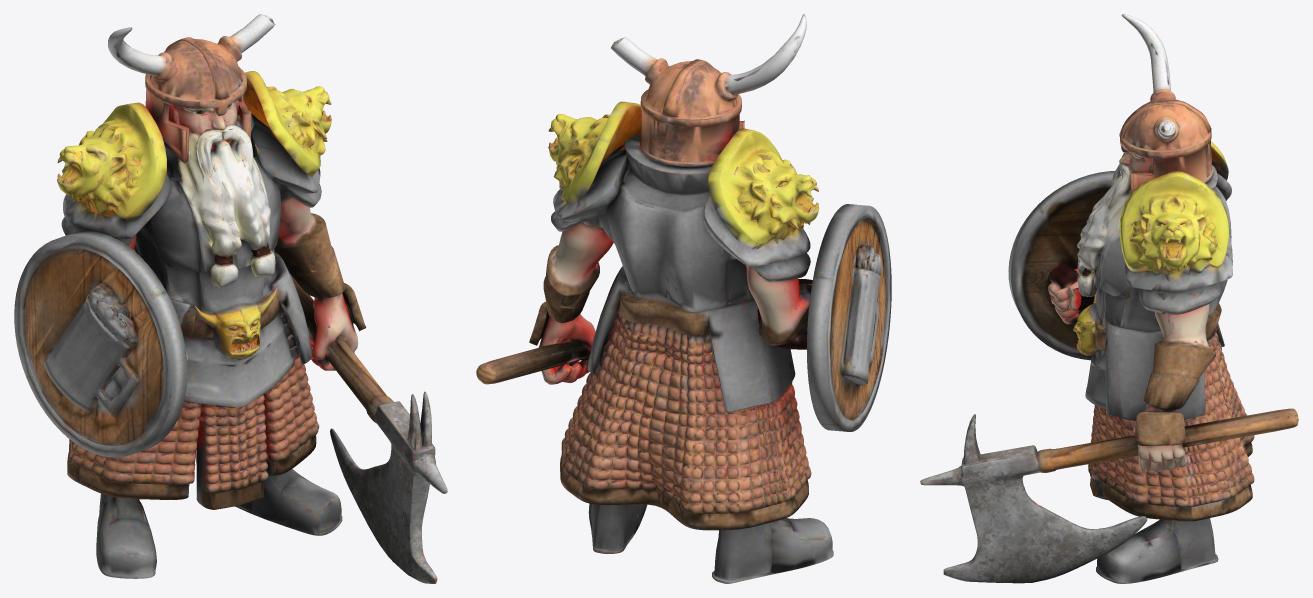
File: MZ4250 - Castellan.glb
3 views of the same model, side by side, from view 1: azimuth 30°, elevation 25°; view 2: azimuth 150°, elevation 25°; view 3: azimuth 270°, elevation 25° (orthographic). The views are drawn at different scales.
Parts seen in each view (by area): view 1: MZ4250 - Castellan; view 2: MZ4250 - Castellan; view 3: MZ4250 - Castellan.
Part boxes in pixels (<box>): MZ4250 - Castellan: <box>14,14,447,583</box>; MZ4250 - Castellan: <box>476,14,891,583</box>; MZ4250 - Castellan: <box>920,14,1298,583</box>.
Bounding box in the file's own units: 0.6274 × 1.02 × 0.7268.
Materials: 1 (1 with a texture image).
